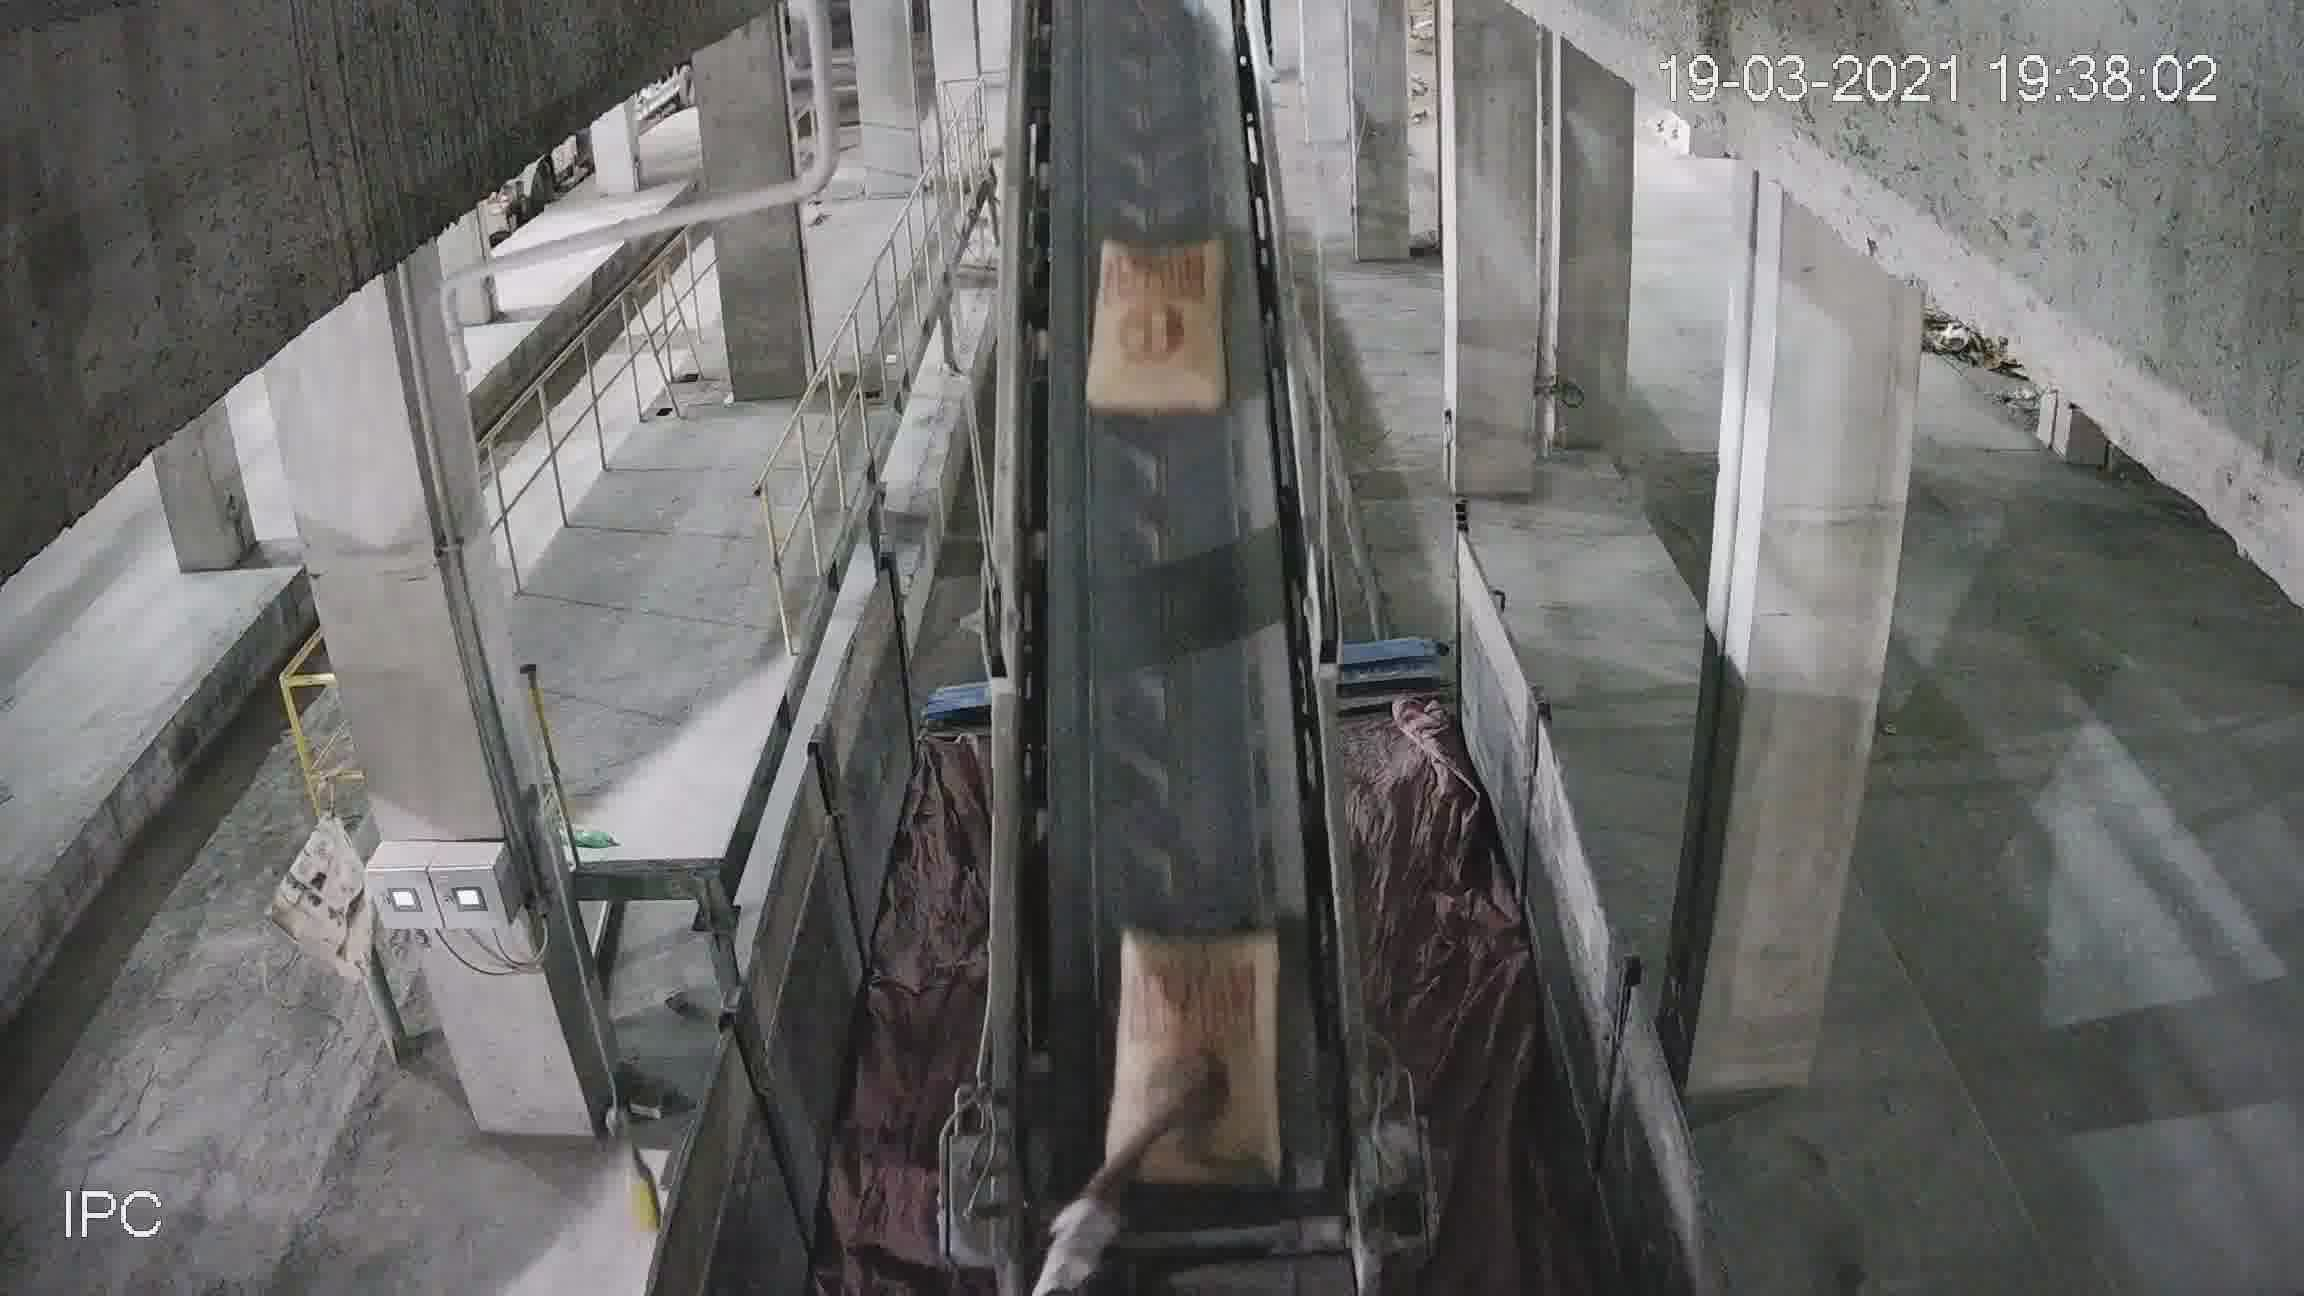bag: (1116, 921, 1282, 1166), (1086, 245, 1226, 416)
belt: (984, 11, 1345, 1114)
